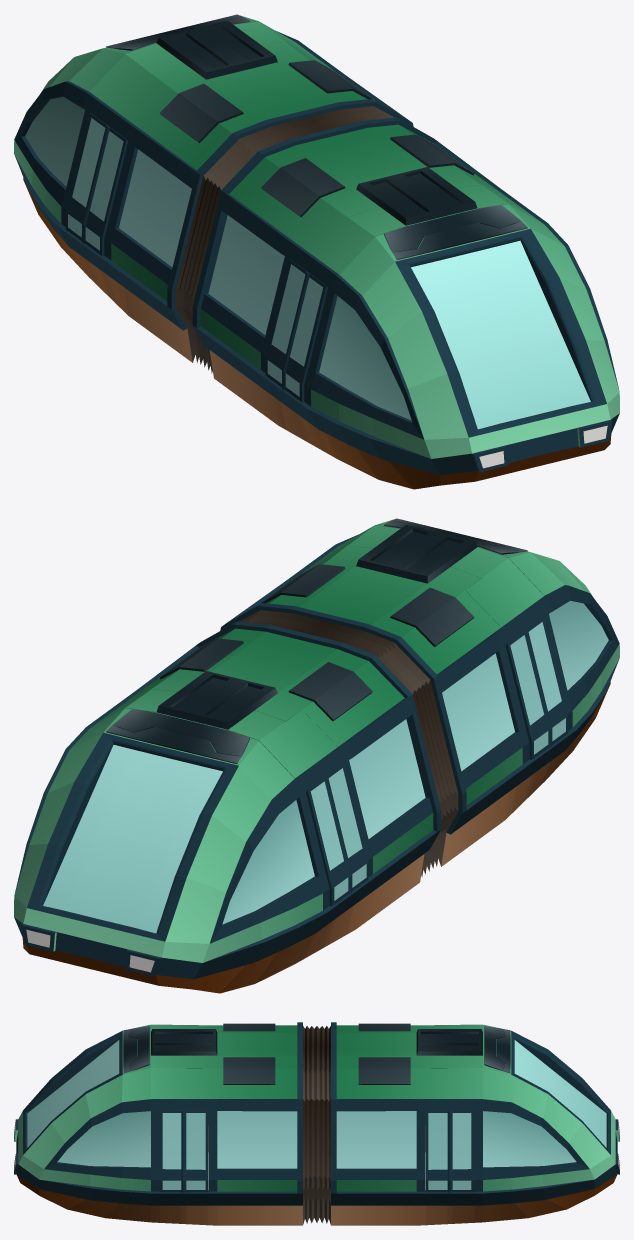
The model's file is TRAIN.glb.
The picture shows the model from 3 angles, top to bottom: view 1: azimuth 30°, elevation 25°; view 2: azimuth 150°, elevation 25°; view 3: azimuth 270°, elevation 25°; orthographic projection. The views are drawn at different scales.
Parts seen in each view (by area): view 1: TRAIN.001; view 2: TRAIN.001; view 3: TRAIN.001.
Boxes of the visible parts, left/top/right/bottom form: TRAIN.001: left=14, top=14, right=619, bottom=489; TRAIN.001: left=14, top=518, right=619, bottom=993; TRAIN.001: left=14, top=1022, right=619, bottom=1225.
Size of the model in its own units: 0.9359 by 0.7403 by 2.73.
Materials: 1 (1 with a texture image).
